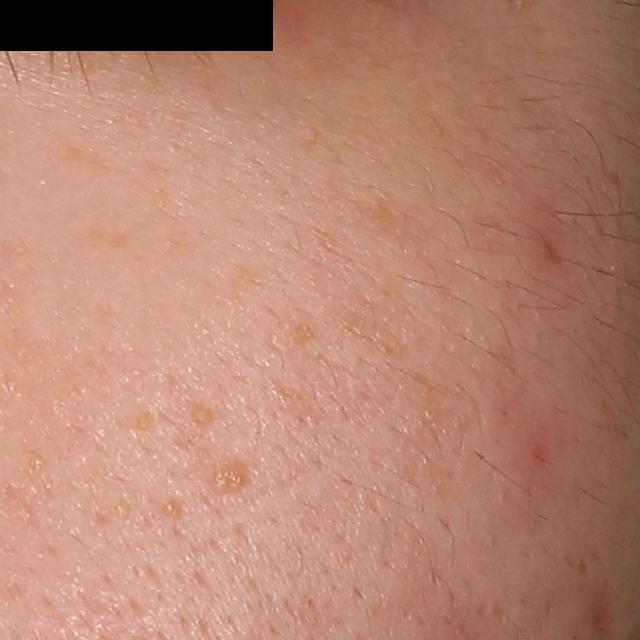comedo: (161, 496, 179, 518)
